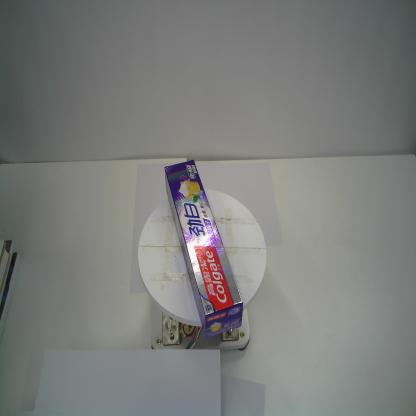Personal Hygiene: (164, 158, 244, 341)
